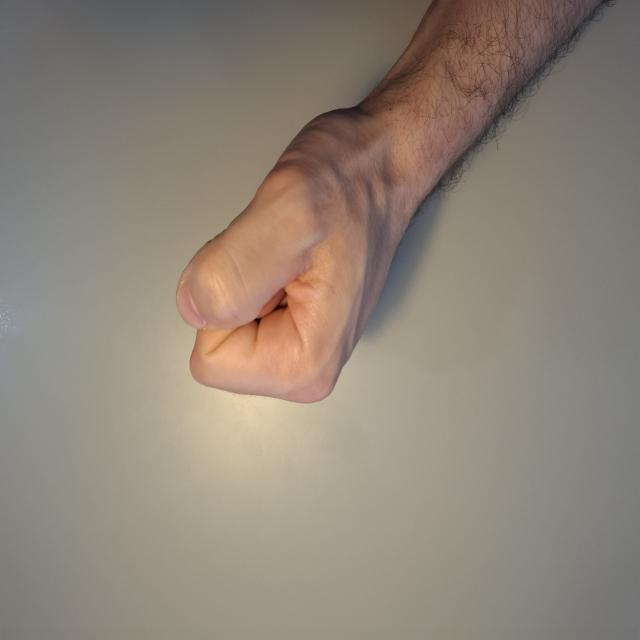glove_off: (174, 83, 430, 409)
